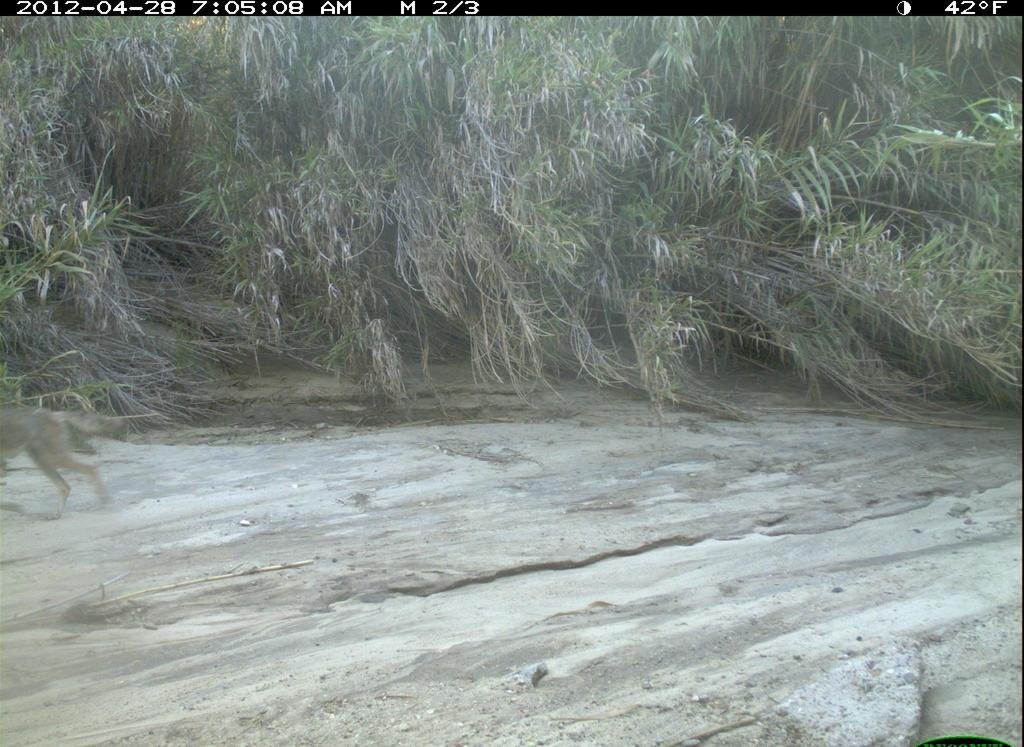coyote: (1, 399, 123, 528)
